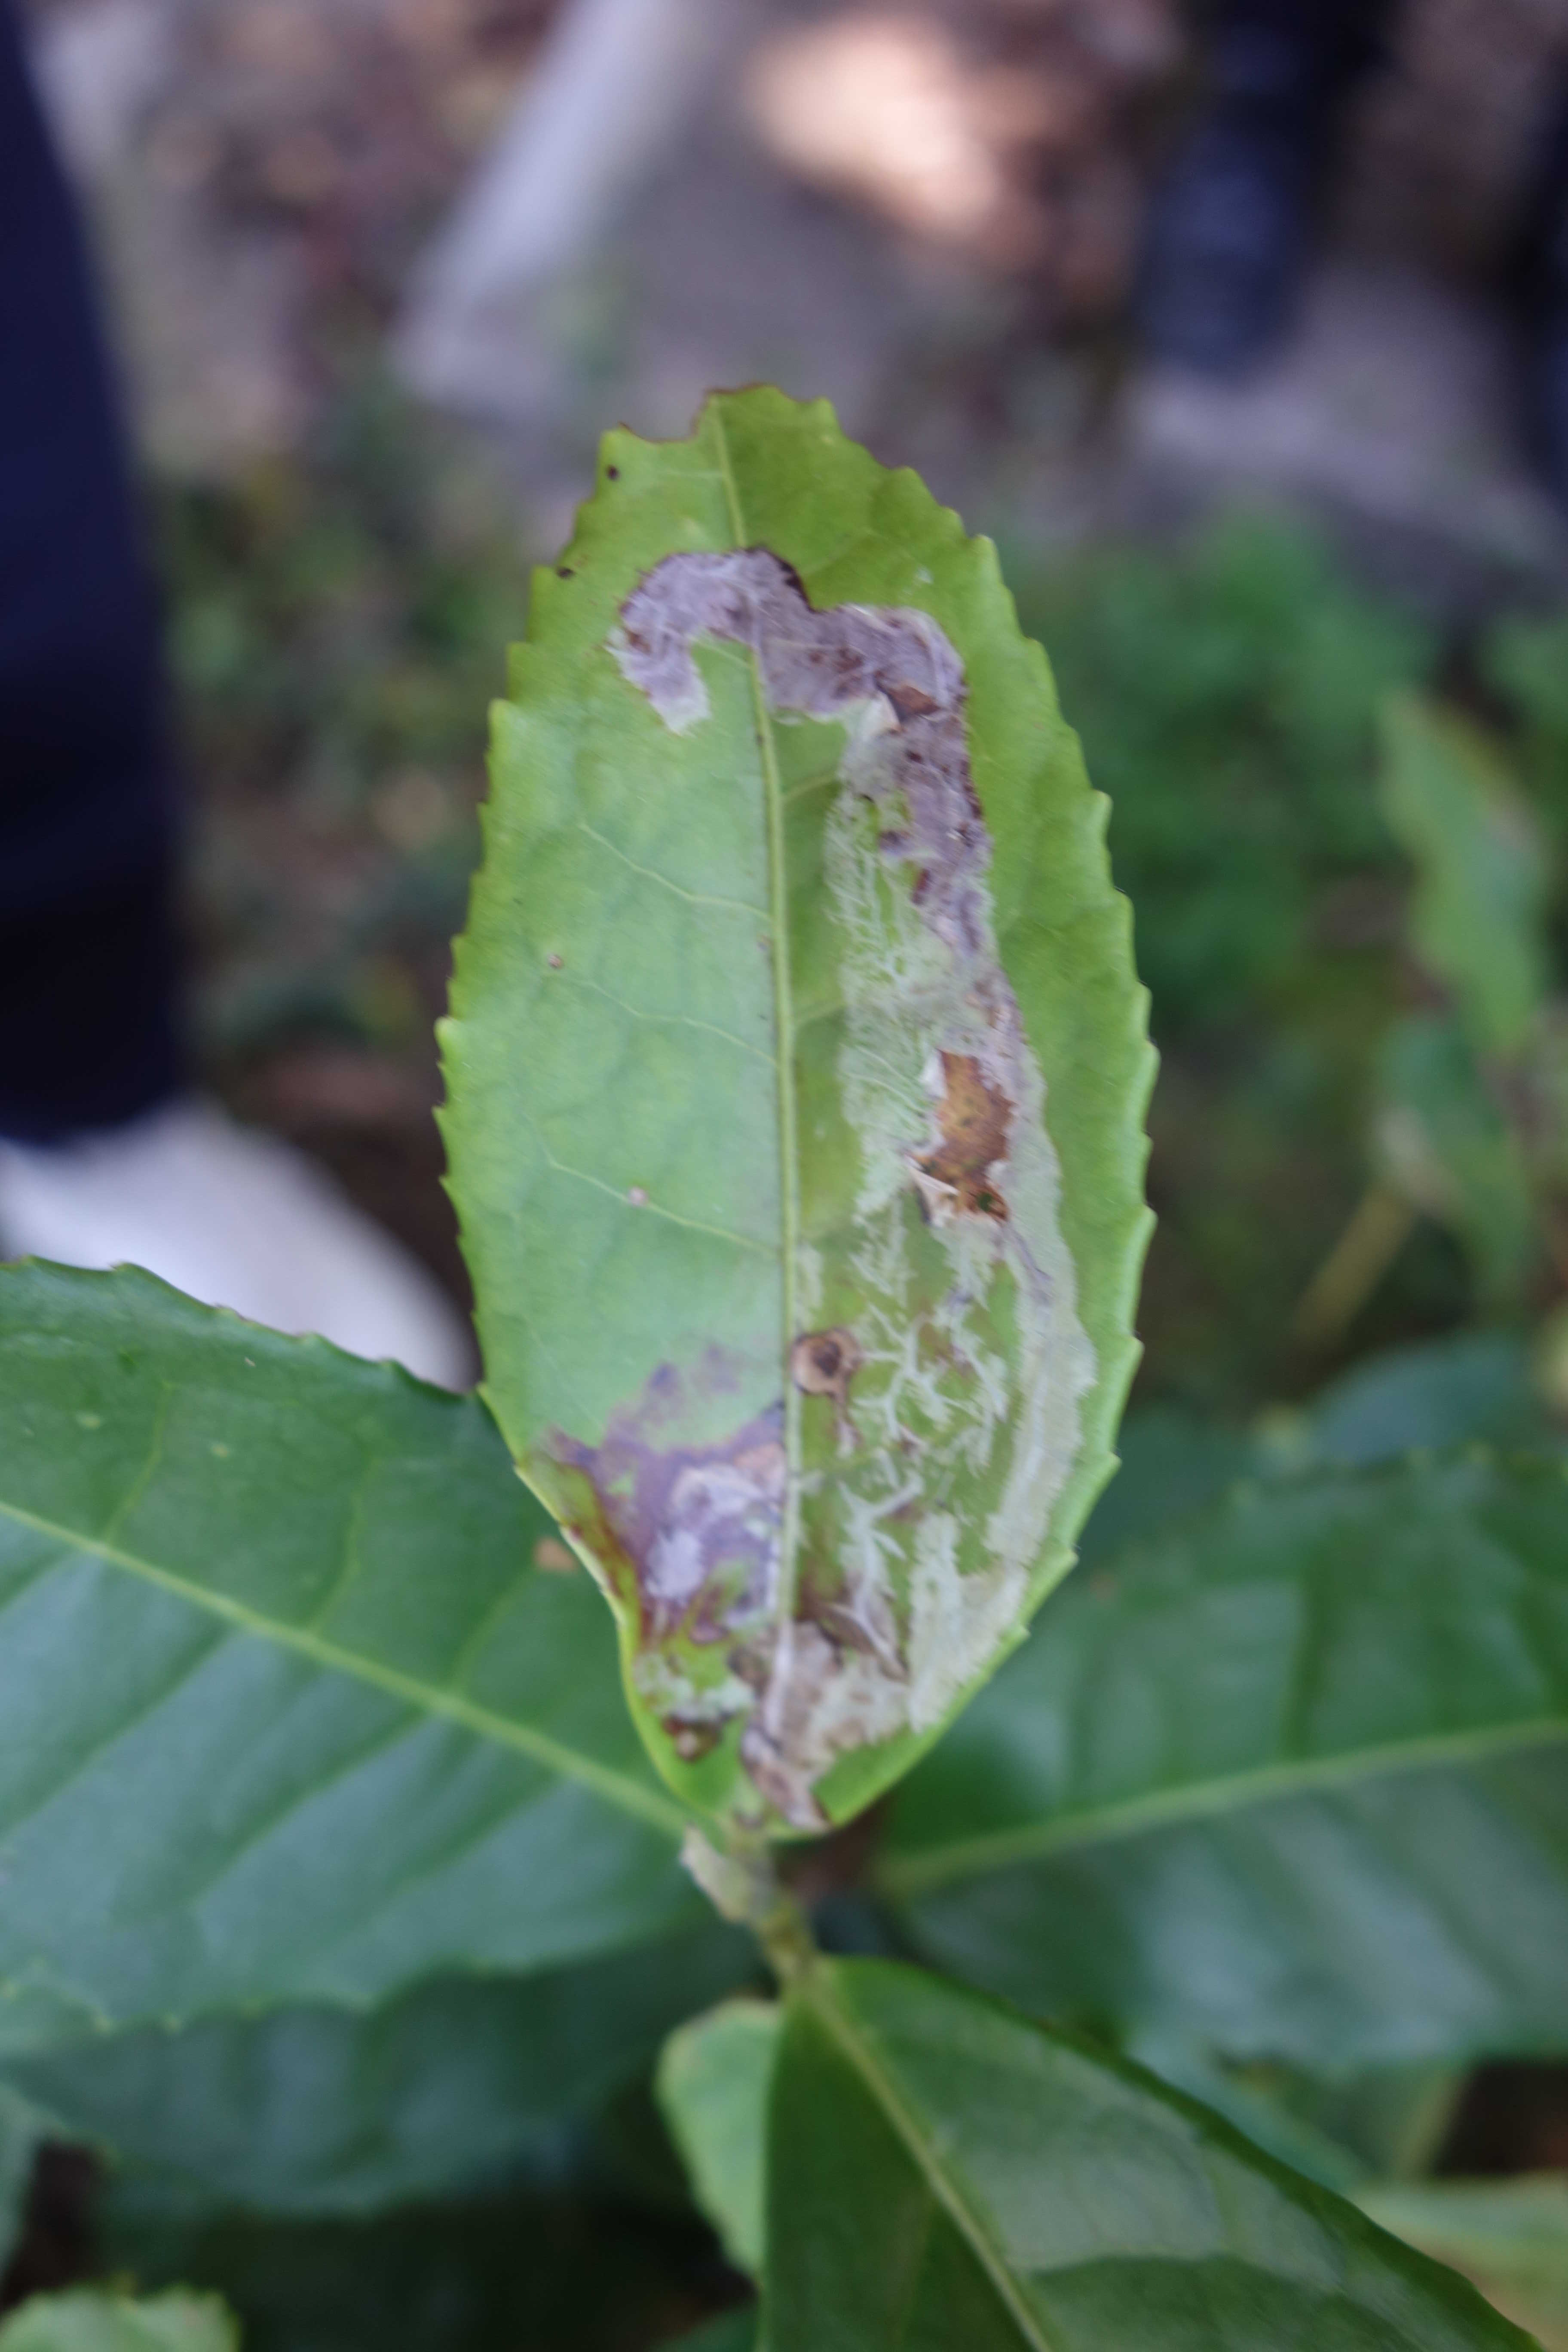tanju_high: (432, 376, 1167, 1843)
